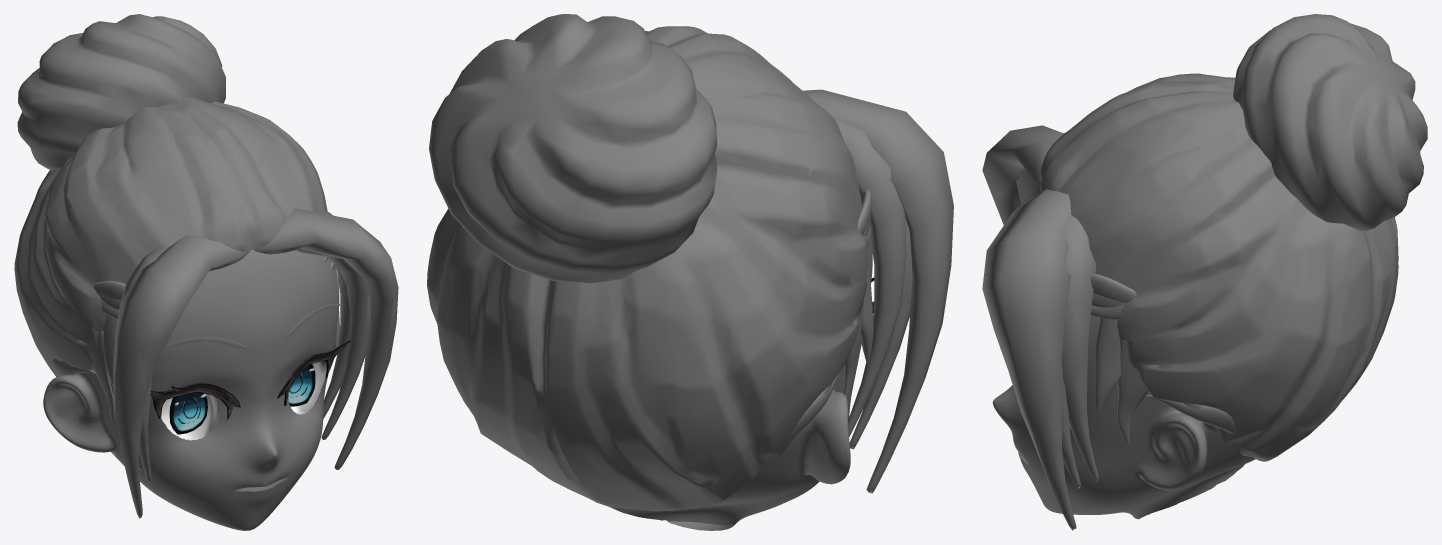
Rendered from Anime Hair 3.fbx.
3 renders of one model, left to right at view 1: azimuth 30°, elevation 25°; view 2: azimuth 150°, elevation 25°; view 3: azimuth 270°, elevation 25°, orthographic. The views are drawn at different scales.
Visible parts, largest first — view 1: Front_parts14_44, Front_parts14_78, PM3D_Sphere3D1_68, PM3D_Sphere3D1_34, PM3D_Sphere3D1_70, new_animetest, PM3D_Sphere3D1_69, EyeLashes2, EyeSocket, PM3D_Sphere3D1_75, PM3D_Sphere3D1_74, Eyebrow (+1 smaller); view 2: Front_parts14_44, PM3D_Sphere3D1_34, PM3D_Sphere3D1_68, Front_parts14_78, PM3D_Sphere3D1_69, PM3D_Sphere3D1_70, PM3D_Sphere3D1_75, PM3D_Sphere3D1_76; view 3: Front_parts14_44, PM3D_Sphere3D1_34, PM3D_Sphere3D1_68, Front_parts14_78, PM3D_Sphere3D1_69, PM3D_Sphere3D1_75, PM3D_Sphere3D1_74, PM3D_Sphere3D1_70, PM3D_Sphere3D1_76, PM3D_Sphere3D1_77_copy1.
Boxes of the visible parts, bbox=[...] form: Front_parts14_44: bbox=[14, 97, 327, 376]; Front_parts14_78: bbox=[43, 249, 339, 530]; PM3D_Sphere3D1_68: bbox=[113, 208, 398, 518]; PM3D_Sphere3D1_34: bbox=[17, 14, 225, 170]; PM3D_Sphere3D1_70: bbox=[139, 248, 371, 482]; new_animetest: bbox=[169, 364, 315, 434]; PM3D_Sphere3D1_69: bbox=[118, 210, 350, 470]; EyeLashes2: bbox=[150, 340, 350, 419]; EyeSocket: bbox=[161, 360, 326, 440]; PM3D_Sphere3D1_75: bbox=[103, 311, 339, 387]; PM3D_Sphere3D1_74: bbox=[92, 330, 114, 425]; Eyebrow: bbox=[164, 304, 342, 348]; Front_parts14_44: bbox=[427, 26, 867, 511]; PM3D_Sphere3D1_34: bbox=[429, 14, 717, 283]; PM3D_Sphere3D1_68: bbox=[803, 89, 953, 493]; Front_parts14_78: bbox=[610, 239, 872, 530]; PM3D_Sphere3D1_69: bbox=[835, 120, 906, 436]; PM3D_Sphere3D1_70: bbox=[849, 220, 912, 449]; PM3D_Sphere3D1_75: bbox=[860, 248, 873, 363]; PM3D_Sphere3D1_76: bbox=[783, 369, 841, 445]; Front_parts14_44: bbox=[1040, 73, 1398, 461]; PM3D_Sphere3D1_34: bbox=[1233, 14, 1427, 230]; PM3D_Sphere3D1_68: bbox=[982, 125, 1076, 530]; Front_parts14_78: bbox=[992, 188, 1255, 519]; PM3D_Sphere3D1_69: bbox=[1061, 133, 1098, 481]; PM3D_Sphere3D1_75: bbox=[1095, 318, 1120, 416]; PM3D_Sphere3D1_74: bbox=[1117, 340, 1148, 446]; PM3D_Sphere3D1_70: bbox=[1016, 168, 1081, 488]; PM3D_Sphere3D1_76: bbox=[1145, 394, 1236, 433]; PM3D_Sphere3D1_77_copy1: bbox=[1090, 274, 1136, 302].
Bounding box in the file's own units: 0.2693 × 0.395 × 0.3287.
17 materials, 2 textured.
